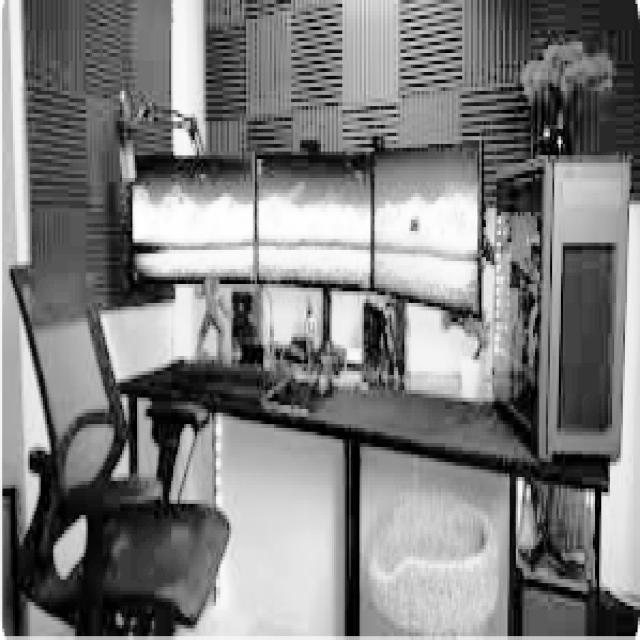book: (6, 258, 229, 636)
table: (113, 352, 610, 632)
